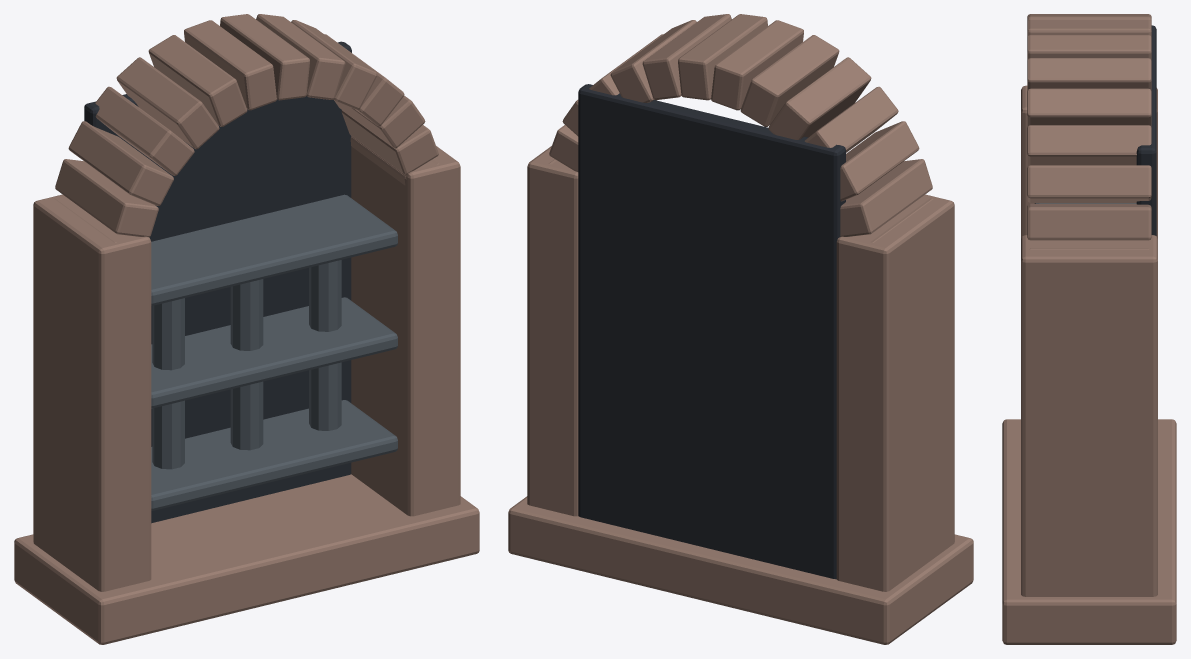
Rendered from d2_niche.glb.
The picture shows the model from 3 angles, left to right: view 1: azimuth 30°, elevation 25°; view 2: azimuth 150°, elevation 25°; view 3: azimuth 270°, elevation 25°; orthographic projection.
Parts seen in each view (by area): view 1: Body.005; view 2: Body.005; view 3: Body.005.
Boxes of the visible parts, left/top/right/bottom form: Body.005: left=14, top=14, right=479, bottom=644; Body.005: left=508, top=14, right=973, bottom=644; Body.005: left=1002, top=14, right=1176, bottom=644.
Bounding box in the file's own units: 1.75 × 2.32 × 0.7.
